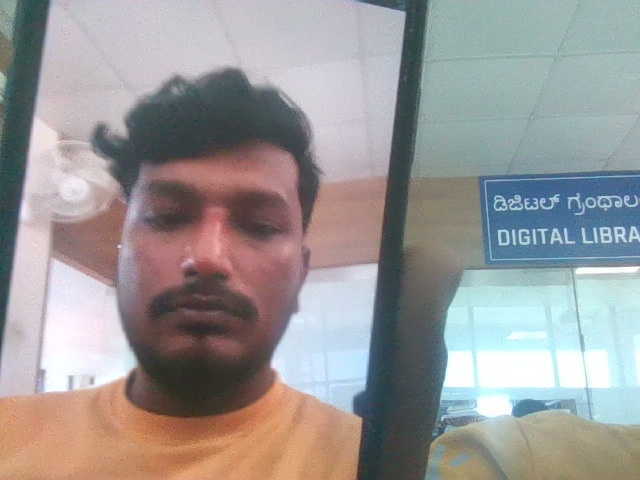fake: (87, 57, 331, 403)
